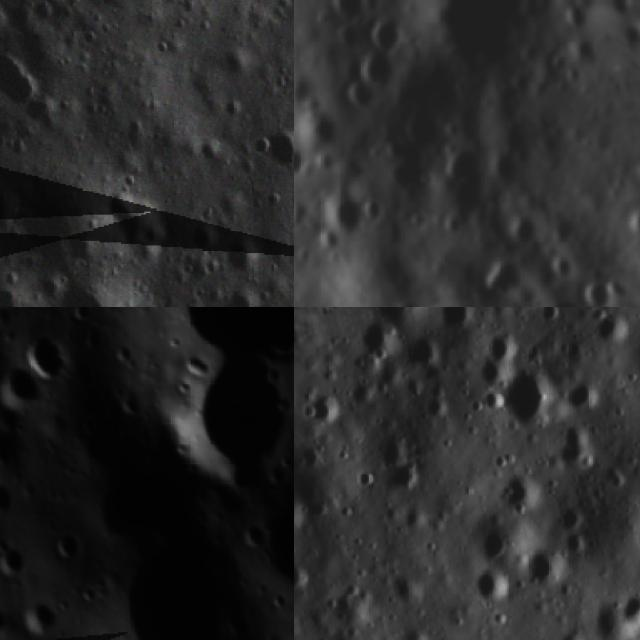crater: (167, 344, 294, 487), (106, 526, 257, 640), (149, 307, 286, 354), (94, 190, 171, 253), (372, 428, 441, 496), (462, 248, 530, 307), (497, 366, 558, 429), (495, 204, 551, 265), (356, 10, 414, 68), (22, 327, 73, 390), (294, 382, 350, 438), (0, 47, 48, 110), (0, 356, 48, 413), (395, 326, 451, 374), (572, 263, 633, 307), (51, 277, 136, 307), (334, 73, 388, 119), (318, 0, 377, 37), (465, 559, 510, 607), (494, 471, 544, 512), (352, 46, 397, 89), (0, 533, 34, 589), (226, 234, 266, 274), (25, 597, 64, 638), (262, 126, 294, 173), (216, 45, 254, 84), (187, 218, 223, 257), (6, 4, 42, 42), (614, 196, 640, 247), (526, 550, 560, 588), (559, 498, 596, 531), (241, 517, 272, 552), (556, 531, 592, 560), (294, 136, 314, 188), (614, 590, 640, 630), (78, 26, 109, 56), (197, 133, 226, 165), (441, 307, 476, 333), (596, 314, 630, 340), (56, 530, 86, 559), (32, 0, 61, 29), (294, 553, 314, 595), (0, 594, 18, 640), (218, 95, 246, 123), (221, 289, 262, 307), (0, 480, 17, 523), (252, 132, 276, 160), (493, 307, 564, 316), (264, 188, 286, 210), (294, 493, 307, 530), (82, 0, 125, 11), (0, 0, 8, 40)
